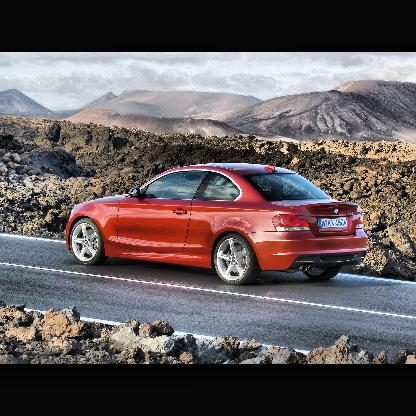BMW 1 Series Coupe 2012: (66, 162, 371, 285)
